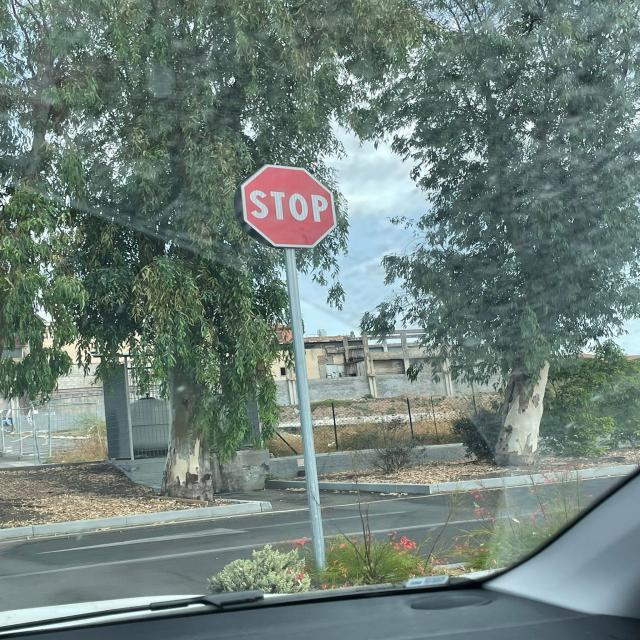prio_stop: (241, 163, 339, 249)
